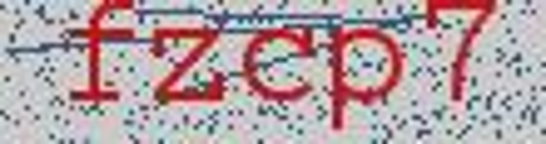7: (415, 1, 505, 111)
c: (242, 19, 320, 114)
f: (59, 1, 141, 110)
p: (323, 15, 406, 143)
z: (148, 18, 229, 109)
